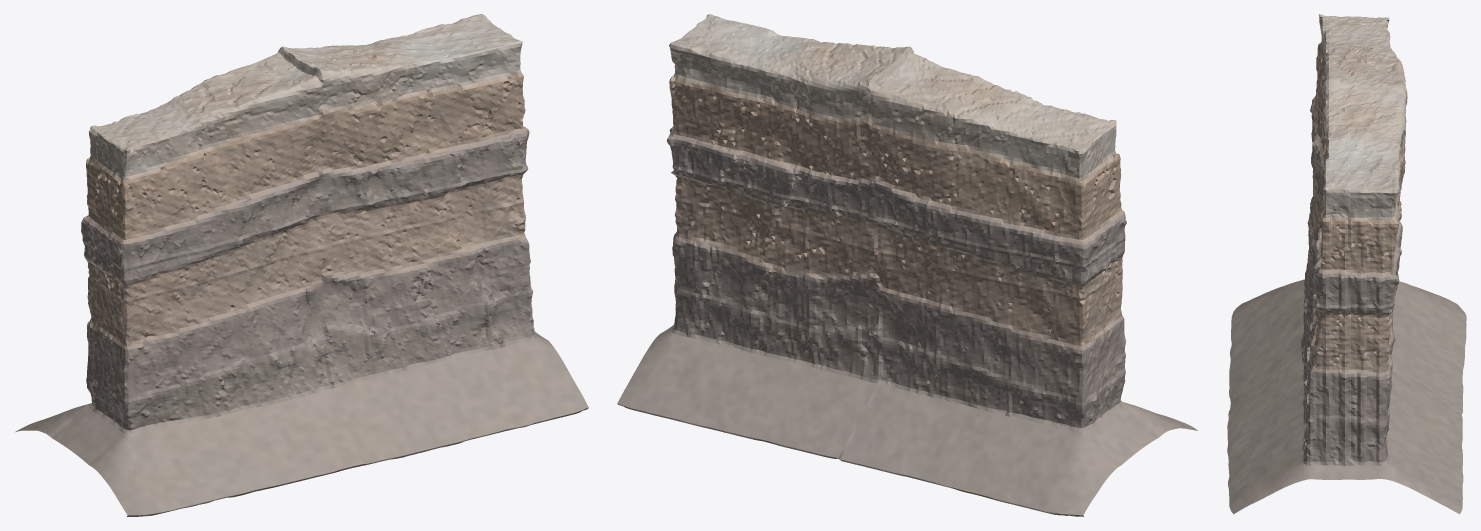
File: cliff_tafoni.glb
3 renders of one model, left to right at view 1: azimuth 30°, elevation 25°; view 2: azimuth 150°, elevation 25°; view 3: azimuth 270°, elevation 25°, orthographic. The views are drawn at different scales.
Visible parts, largest first — view 1: geometry_0; view 2: geometry_0; view 3: geometry_0.
Part boxes in pixels (x1,y1,x2,y2): geometry_0: (15, 14, 588, 516); geometry_0: (617, 14, 1197, 516); geometry_0: (1227, 14, 1466, 514).
Bounding box in the file's own units: 32 × 23.86 × 15.37.
